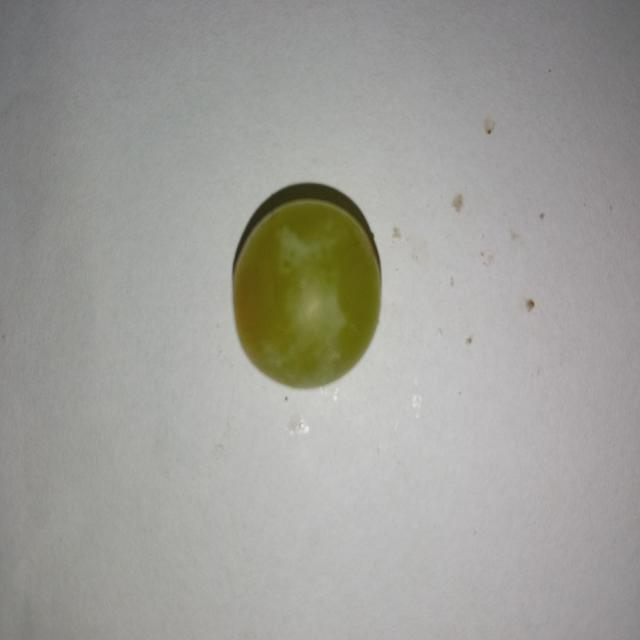fresh_grape: (228, 183, 382, 391)
